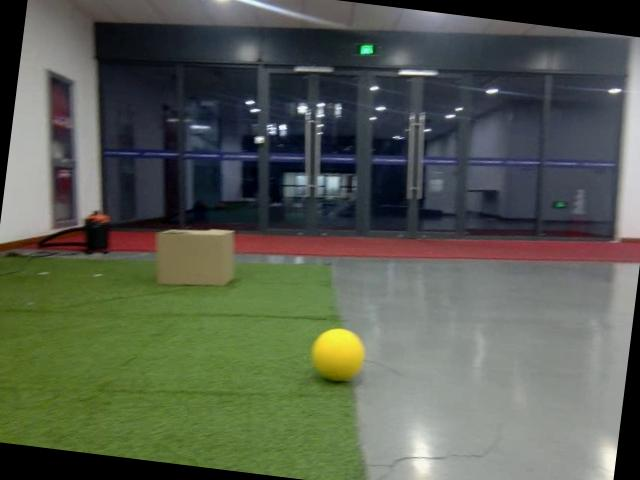yellow_ball: (306, 324, 368, 386)
